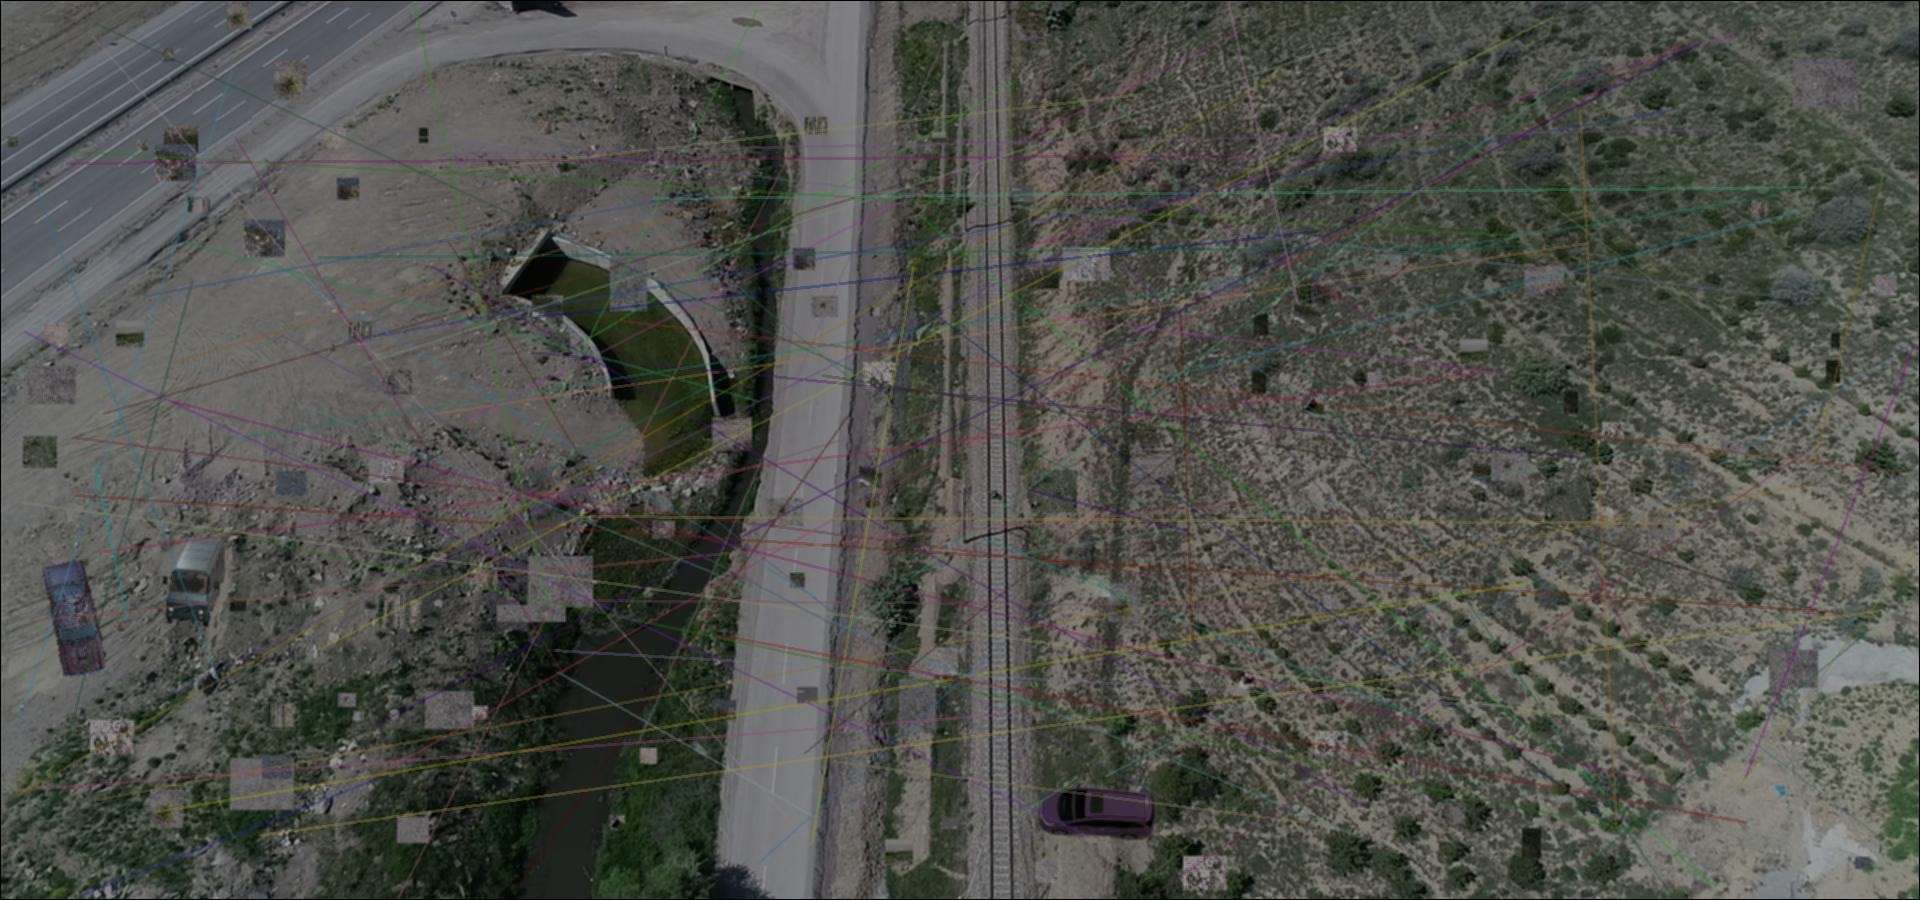arac: (40, 560, 109, 677), (1037, 781, 1156, 841), (160, 536, 227, 627)
